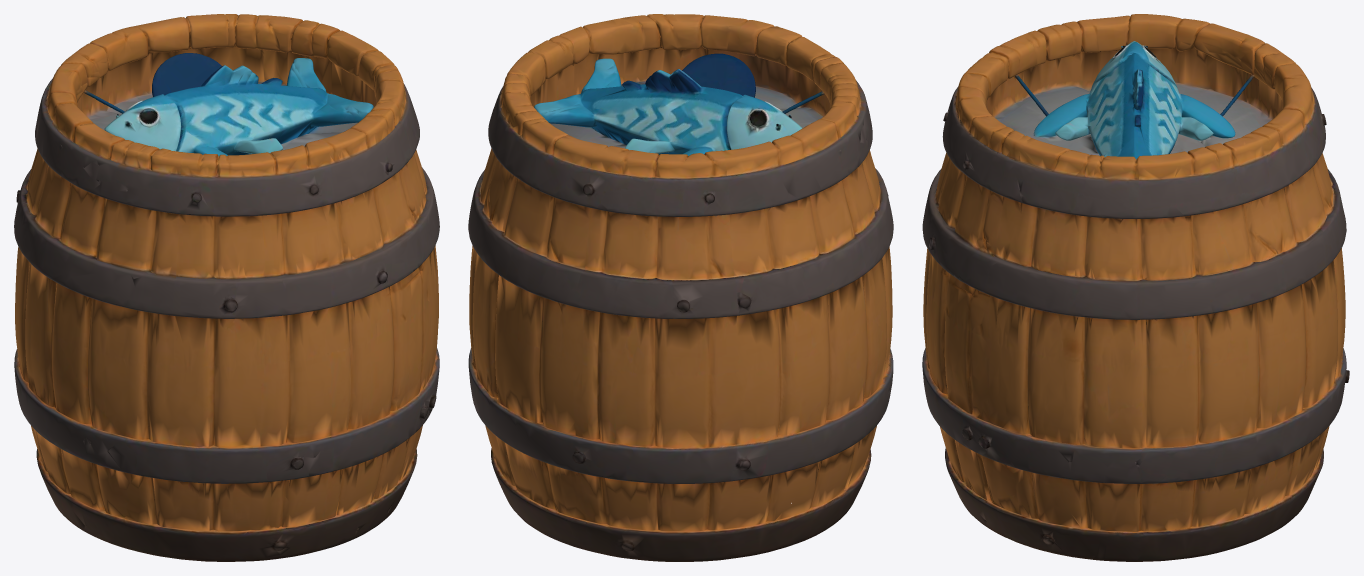
Rendered from barrel_village.glb.
The picture shows the model from 3 angles, left to right: view 1: azimuth 30°, elevation 25°; view 2: azimuth 150°, elevation 25°; view 3: azimuth 270°, elevation 25°; orthographic projection.
Parts seen in each view (by area): view 1: tripo_node_1facd0dc-759c-4032-af97-999dcb669286; view 2: tripo_node_1facd0dc-759c-4032-af97-999dcb669286; view 3: tripo_node_1facd0dc-759c-4032-af97-999dcb669286.
Boxes of the visible parts, x1=… form: tripo_node_1facd0dc-759c-4032-af97-999dcb669286: x1=14, y1=14, x2=439, y2=561; tripo_node_1facd0dc-759c-4032-af97-999dcb669286: x1=468, y1=14, x2=893, y2=561; tripo_node_1facd0dc-759c-4032-af97-999dcb669286: x1=922, y1=14, x2=1349, y2=561.
Bounding box in the file's own units: 0.8985 × 0.9799 × 0.9046.
1 material, 1 textured.
